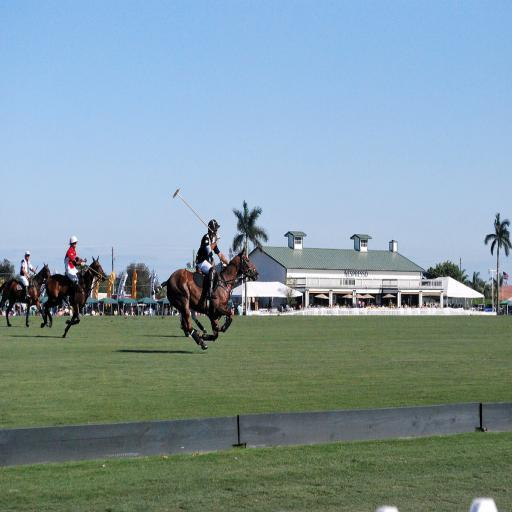horse: (151, 249, 259, 352), (41, 254, 108, 336), (0, 260, 51, 328)
